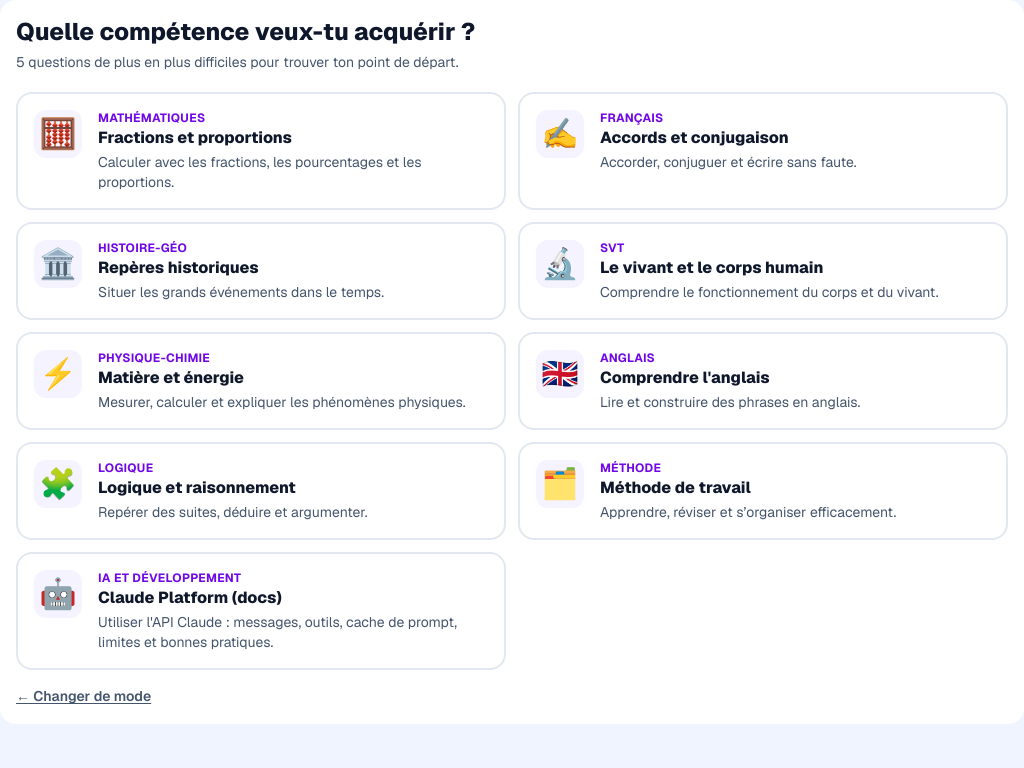
level test inside the first connection › never lowers a level the learner already earned
Click the button "Logique et raisonnement".
click(261, 491)  # box [16, 442, 506, 540]
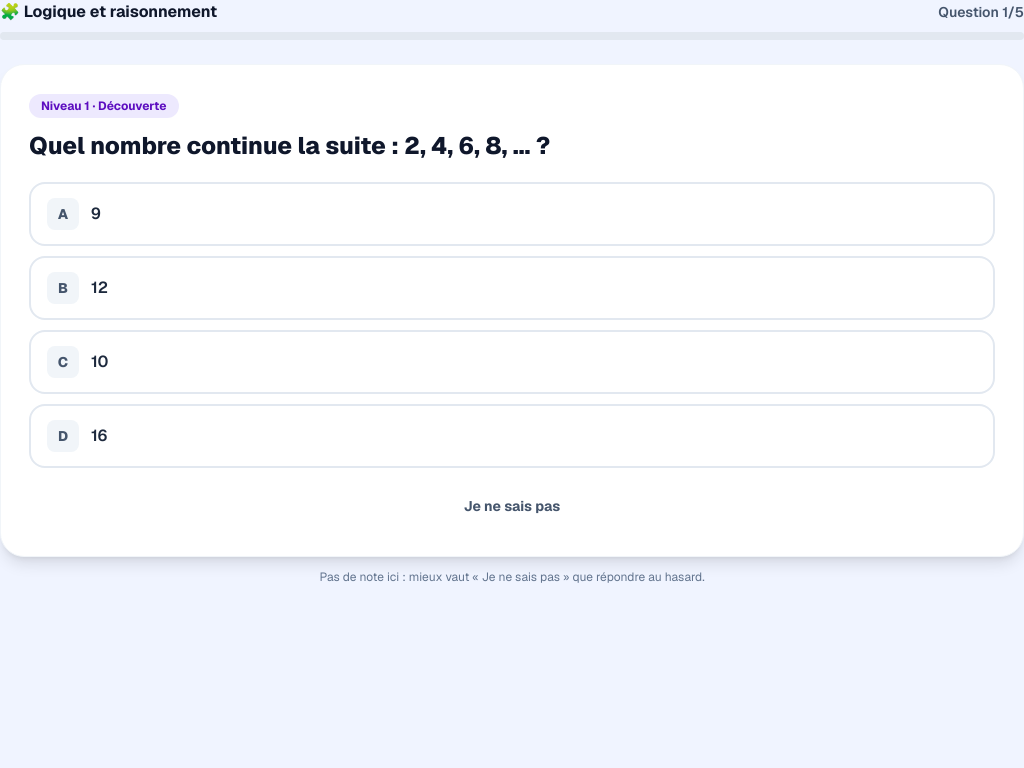
Click the button "Je ne sais pas".
click(512, 506)  # box [29, 484, 995, 528]
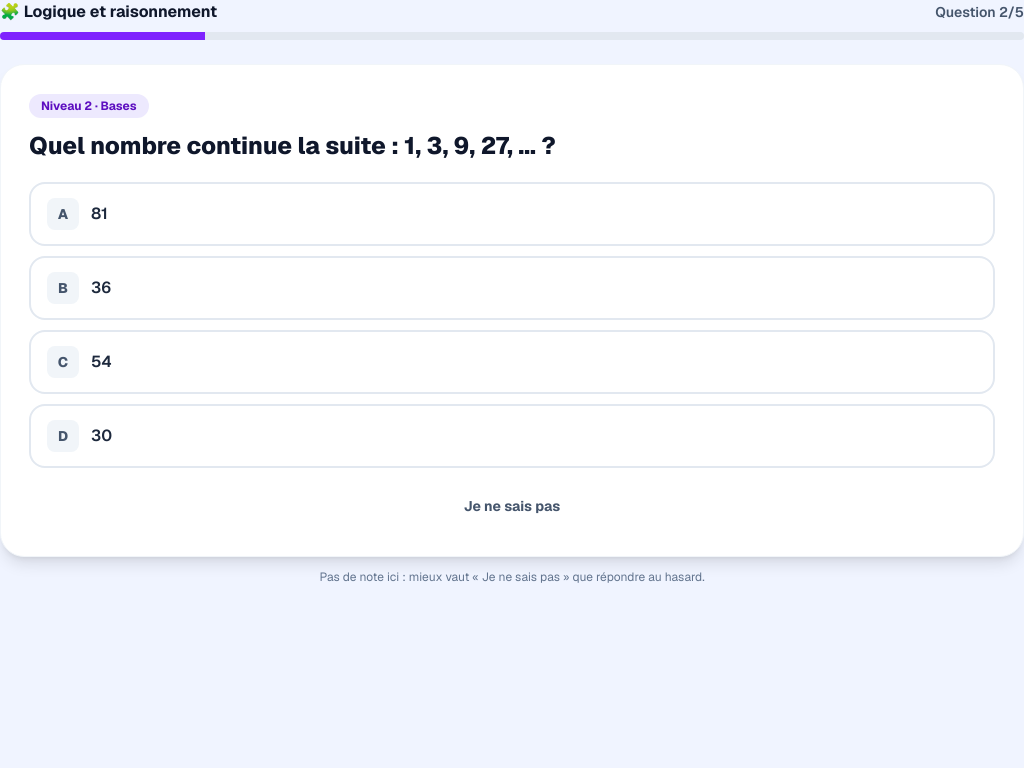
Click the button "Je ne sais pas".
click(512, 506)  # box [29, 484, 995, 528]
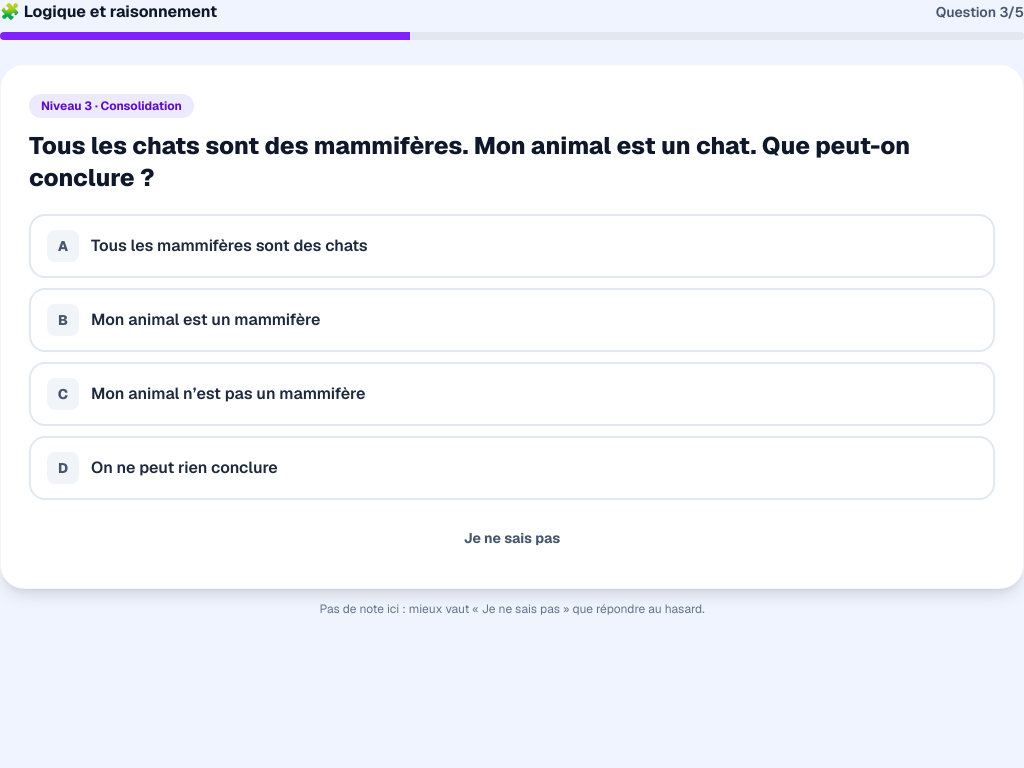
Click the button "Je ne sais pas".
click(512, 538)  # box [29, 516, 995, 560]
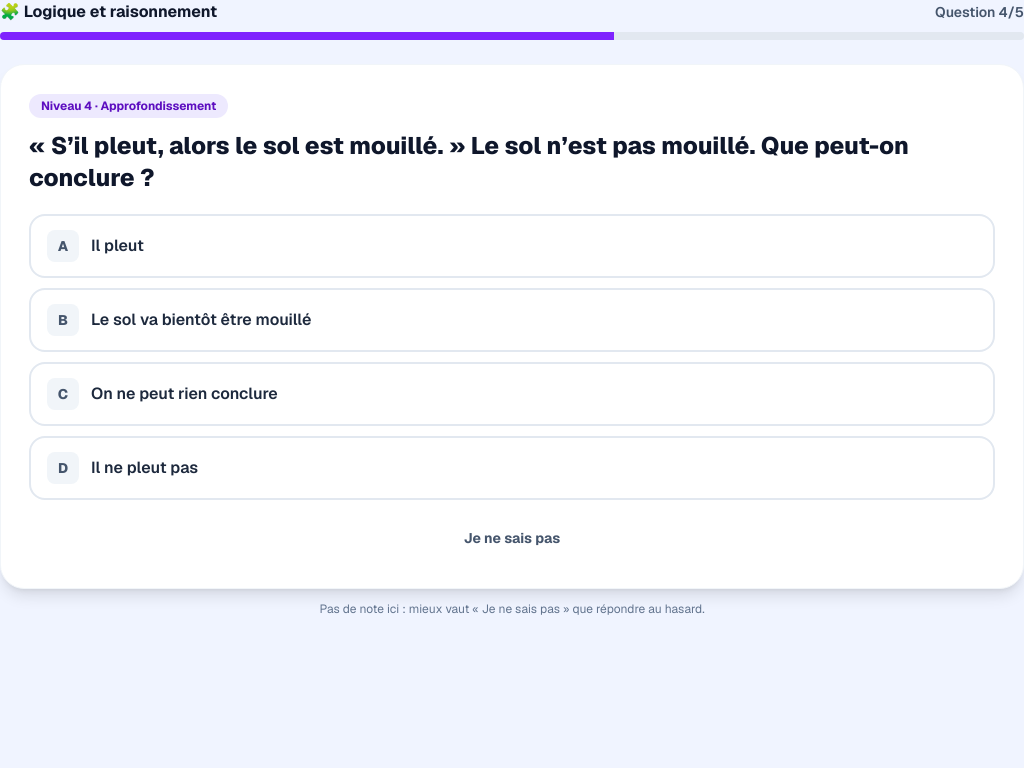
Click the button "Je ne sais pas".
click(512, 538)  # box [29, 516, 995, 560]
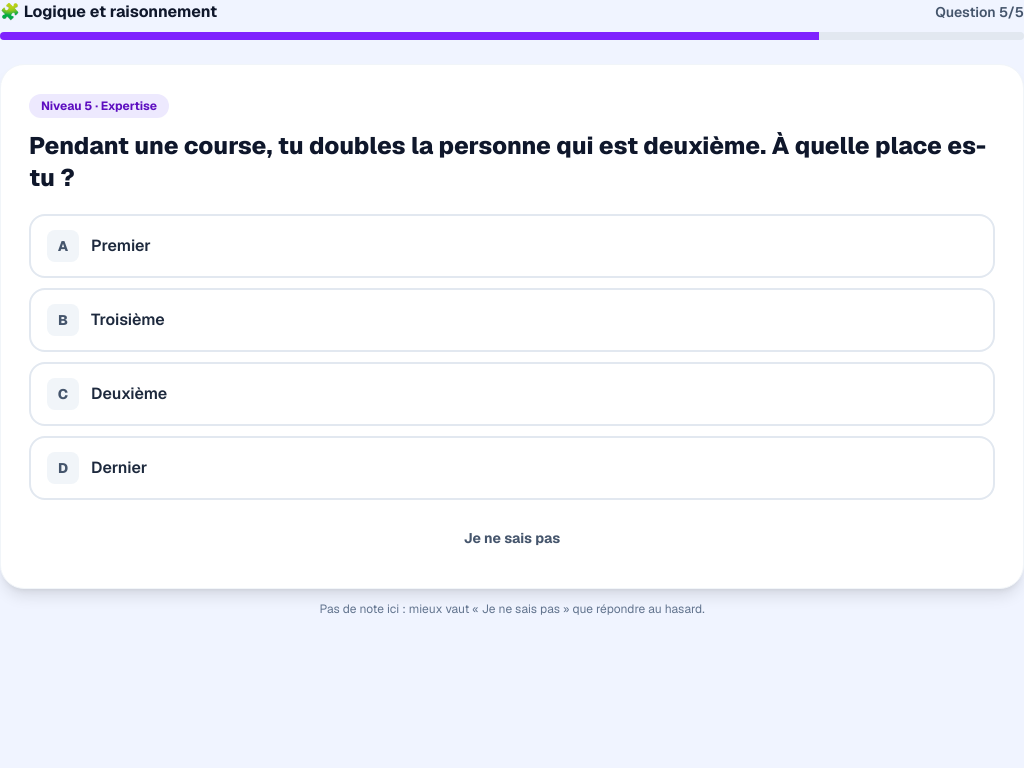
Click the button "Je ne sais pas".
click(512, 538)  # box [29, 516, 995, 560]
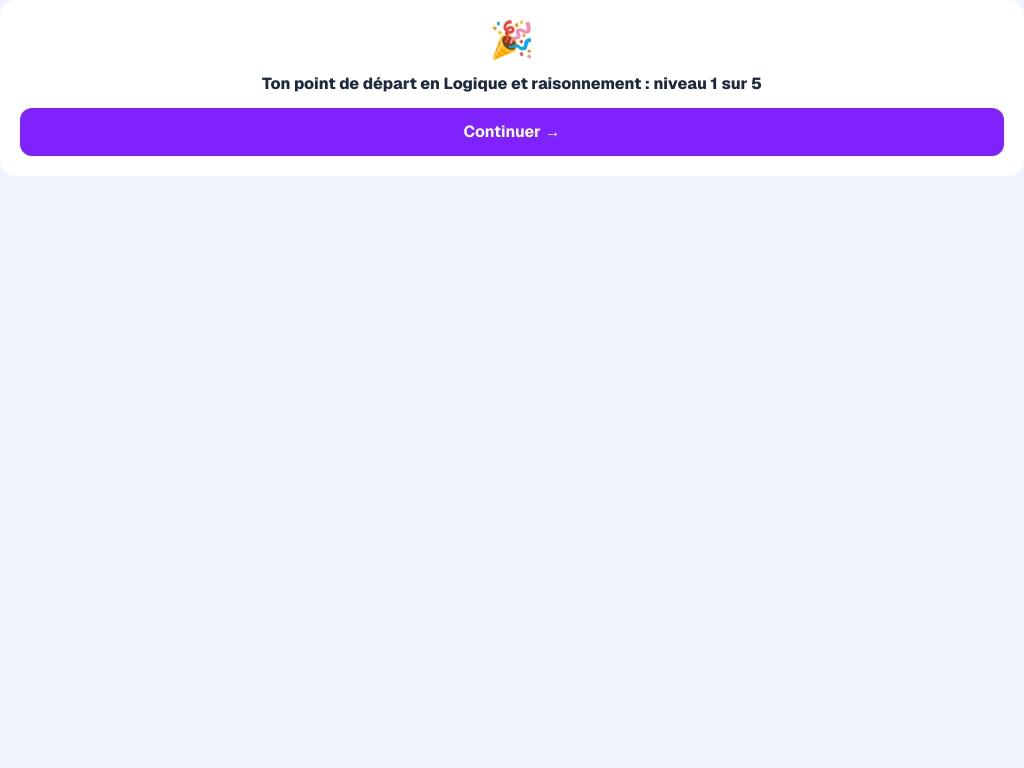
Expected: the text "niveau 1 sur 5" is shown, [262, 73, 762, 94]
